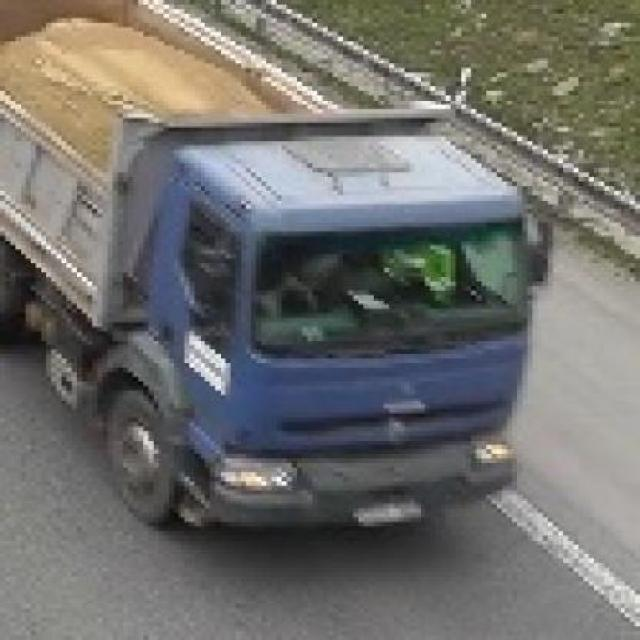truck: (1, 1, 544, 536)
